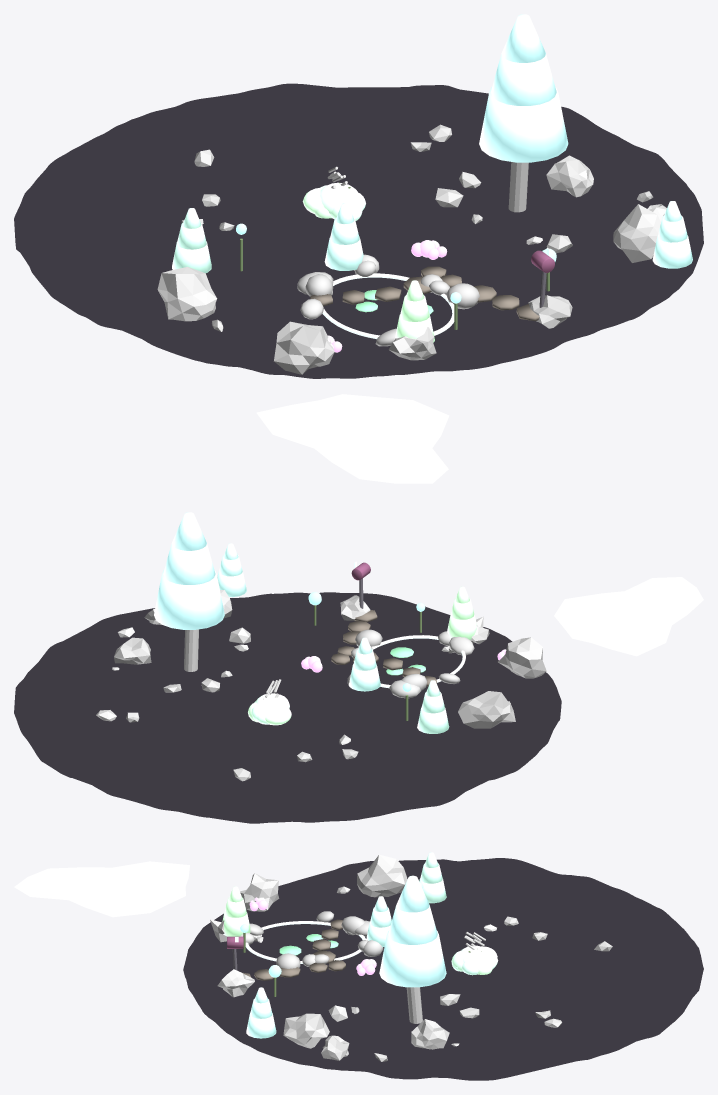
File: environment-about.glb
3 renders of one model, top to bottom at view 1: azimuth 30°, elevation 25°; view 2: azimuth 150°, elevation 25°; view 3: azimuth 270°, elevation 25°, orthographic. The views are drawn at different scales.
Parts seen in each view (by area): view 1: house_ground_patch, house_pond_water, house_big_tree_foliage_0, house_big_tree_foliage_1, house_boulder_1, house_boulder_3, house_boulder_0, house_big_tree_foliage_2, house_boulder_2, house_small_tree_1_0, house_boulder_4, house_boulder_5 (+4 smaller); view 2: house_ground_patch, house_pond_water, house_big_tree_foliage_0, house_big_tree_foliage_1, house_boulder_1, house_boulder_3, house_big_tree_foliage_2, house_boulder_2, house_small_tree_3_0, house_small_tree_0_0, house_big_tree_trunk, house_small_tree_2_0 (+2 smaller); view 3: house_ground_patch, house_pond_water, house_big_tree_foliage_0, house_boulder_1, house_big_tree_foliage_1, house_boulder_0, house_boulder_3, house_boulder_2, house_big_tree_foliage_2, house_boulder_4, house_small_tree_1_0, house_pond_glow_ring (+4 smaller).
Part boxes in pixels (x1,y1,x2,y2): house_ground_patch: (14, 83, 703, 378); house_pond_water: (256, 394, 449, 483); house_big_tree_foliage_0: (479, 87, 568, 162); house_big_tree_foliage_1: (490, 54, 556, 105); house_boulder_1: (157, 267, 217, 321); house_boulder_3: (274, 321, 334, 374); house_boulder_0: (613, 204, 663, 262); house_big_tree_foliage_2: (501, 14, 545, 62); house_boulder_2: (546, 155, 593, 197); house_small_tree_1_0: (652, 235, 692, 268); house_boulder_4: (528, 295, 572, 328); house_boulder_5: (388, 327, 436, 360); house_ground_patch: (14, 592, 561, 823); house_pond_water: (554, 577, 703, 656); house_big_tree_foliage_0: (154, 570, 224, 629); house_big_tree_foliage_1: (163, 544, 215, 584); house_boulder_1: (458, 691, 515, 728); house_boulder_3: (498, 637, 546, 678); house_big_tree_foliage_2: (171, 512, 206, 550); house_boulder_2: (114, 637, 151, 664); house_small_tree_3_0: (349, 664, 380, 691); house_small_tree_0_0: (417, 706, 449, 733); house_big_tree_trunk: (184, 629, 198, 671); house_small_tree_2_0: (447, 613, 476, 639); house_ground_patch: (183, 858, 703, 1080); house_pond_water: (14, 861, 189, 917); house_big_tree_foliage_0: (379, 931, 446, 987); house_boulder_1: (357, 854, 407, 897); house_big_tree_foliage_1: (388, 905, 437, 944); house_boulder_0: (283, 1013, 329, 1048); house_boulder_3: (240, 873, 279, 911); house_boulder_2: (411, 1019, 449, 1049); house_big_tree_foliage_2: (396, 875, 429, 912); house_boulder_4: (217, 969, 254, 997); house_small_tree_1_0: (246, 1013, 276, 1038); house_pond_glow_ring: (245, 921, 366, 963).
Bounding box in the file's own units: 17 × 5.55 × 22.52.
